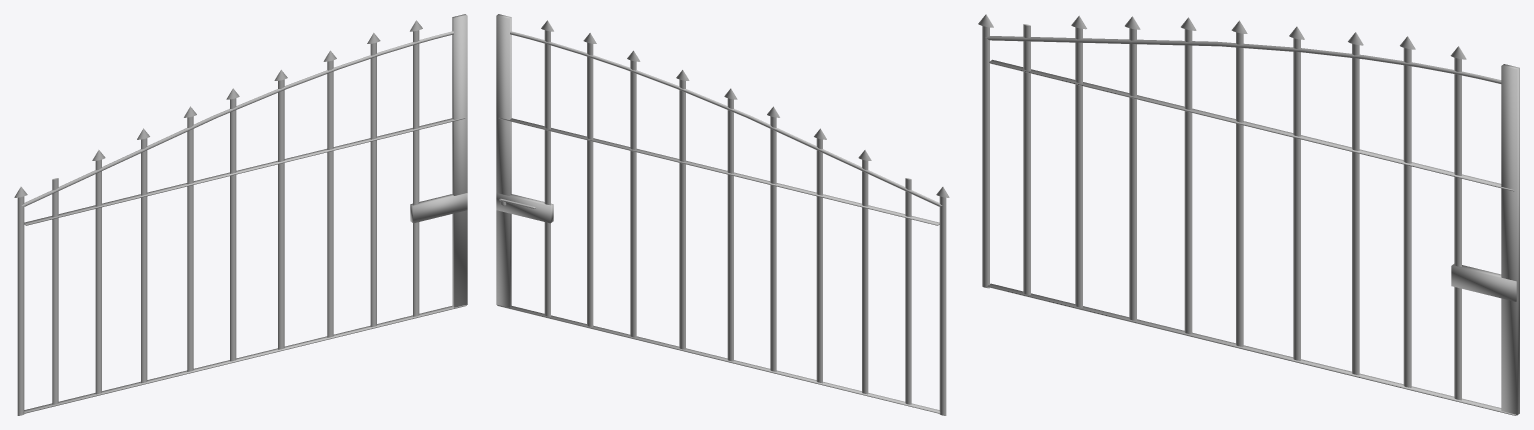
File: puerta2.obj
The picture shows the model from 3 angles, left to right: view 1: azimuth 30°, elevation 25°; view 2: azimuth 150°, elevation 25°; view 3: azimuth 330°, elevation 25°; orthographic projection. The views are drawn at different scales.
Visible parts, largest first — view 1: door_1_Cubo_21, door_1_Cilindro_131, door_1_Cilindro_13, door_1_Sweep_NURBS1, door_1_Cilindro_111, door_1_Cilindro3, door_1_Cubo, door_1_Cilindro_9, door_1_Cubo_16, door_1_Cilindro_71, door_1_Nullo_4_Cilindro4, door_1_Cilindro_51 (+3 smaller); view 2: door_1_Cubo_21, door_1_Cilindro_131, door_1_Cilindro_13, door_1_Sweep_NURBS1, door_1_Cilindro_111, door_1_Cilindro3, door_1_Cilindro_9, door_1_Cubo, door_1_Cubo_16, door_1_Cilindro_71, door_1_Nullo_4_Cilindro4, door_1_Cilindro_51 (+3 smaller); view 3: door_1_Cubo_21, door_1_Cilindro_131, door_1_Cilindro_71, door_1_Cilindro_13, door_1_Cilindro_111, door_1_Cilindro3, door_1_Sweep_NURBS1, door_1_Cubo, door_1_Cubo_16, door_1_Cilindro_9, door_1_Cilindro_51, door_1_Cilindro_21 (+3 smaller).
Part boxes in pixels (bbox=[...]): door_1_Cubo_21: bbox=[452, 14, 467, 307]; door_1_Cilindro_131: bbox=[370, 42, 376, 326]; door_1_Cilindro_13: bbox=[327, 60, 333, 337]; door_1_Sweep_NURBS1: bbox=[22, 31, 453, 206]; door_1_Cilindro_111: bbox=[278, 79, 284, 349]; door_1_Cilindro3: bbox=[413, 30, 419, 316]; door_1_Cubo: bbox=[23, 305, 466, 413]; door_1_Cilindro_9: bbox=[230, 98, 236, 361]; door_1_Cubo_16: bbox=[24, 117, 465, 225]; door_1_Cilindro_71: bbox=[187, 116, 193, 371]; door_1_Nullo_4_Cilindro4: bbox=[17, 196, 24, 415]; door_1_Cilindro_51: bbox=[141, 138, 147, 382]; door_1_Cubo_21: bbox=[496, 14, 511, 307]; door_1_Cilindro_131: bbox=[587, 42, 593, 326]; door_1_Cilindro_13: bbox=[630, 60, 636, 337]; door_1_Sweep_NURBS1: bbox=[510, 31, 942, 206]; door_1_Cilindro_111: bbox=[679, 79, 685, 349]; door_1_Cilindro3: bbox=[544, 30, 550, 316]; door_1_Cilindro_9: bbox=[727, 98, 733, 361]; door_1_Cubo: bbox=[497, 305, 940, 413]; door_1_Cubo_16: bbox=[498, 117, 939, 225]; door_1_Cilindro_71: bbox=[770, 116, 776, 371]; door_1_Nullo_4_Cilindro4: bbox=[939, 196, 946, 415]; door_1_Cilindro_51: bbox=[816, 138, 822, 383]; door_1_Cubo_21: bbox=[1501, 64, 1519, 415]; door_1_Cilindro_131: bbox=[1403, 48, 1411, 387]; door_1_Cilindro_71: bbox=[1184, 29, 1192, 334]; door_1_Cilindro_13: bbox=[1352, 43, 1359, 375]; door_1_Cilindro_111: bbox=[1293, 38, 1300, 360]; door_1_Cilindro3: bbox=[1454, 57, 1461, 400]; door_1_Sweep_NURBS1: bbox=[985, 36, 1501, 83]; door_1_Cubo: bbox=[987, 283, 1515, 415]; door_1_Cubo_16: bbox=[989, 59, 1514, 191]; door_1_Cilindro_9: bbox=[1236, 32, 1243, 346]; door_1_Cilindro_51: bbox=[1129, 28, 1136, 320]; door_1_Cilindro_21: bbox=[1075, 27, 1082, 307].
Bounding box in the file's own units: 8.81 × 5.56 × 0.176.
Materials: 1 (1 with a texture image).
